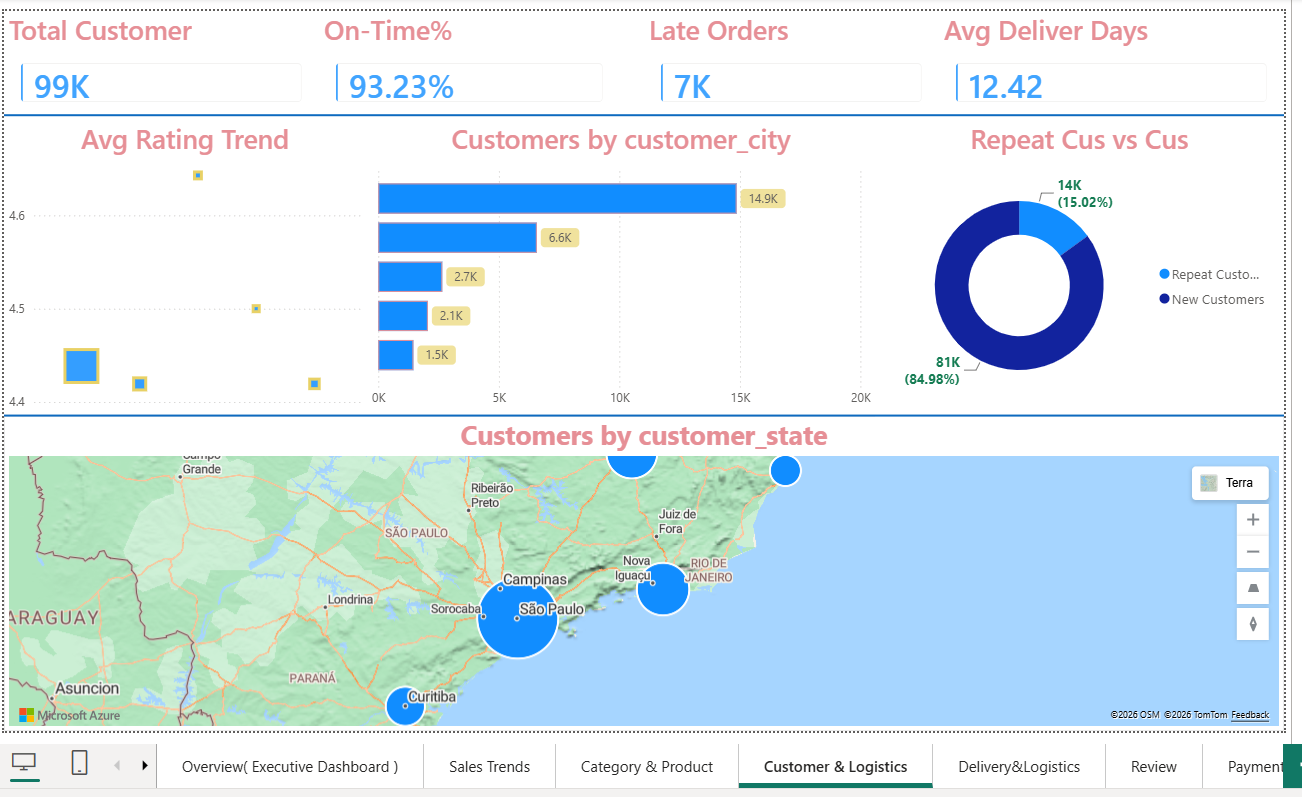

This screenshot's page, from the dashboard's own definition file:
{"tool":"powerbi","page":{"name":"Customer & Logistics ","canvas":[1280,720],"ordinal":3},"visuals":[{"type":"cardVisual","title":"Total Customer","fields":{"Data":["public bi_fact_sales.Total_Customer"]},"box":[0,0,315.6,108.4],"z":0},{"type":"cardVisual","title":"On-Time%","fields":{"Data":["public bi_fact_sales.On-time %"]},"box":[315.6,0,301.9,108.4],"z":1000},{"type":"cardVisual","title":"Late Orders","fields":{"Data":["public bi_fact_sales.Late Orders"]},"box":[639.5,0,295,108.4],"z":2000},{"type":"cardVisual","title":"Avg Deliver Days","fields":{"Data":["public bi_fact_sales.Avg_deliver_days"]},"box":[934.5,0,345.8,108.4],"z":3000},{"type":"azureMap","fields":{"Category":["public bi_fact_sales.customer_state"],"Size":["public bi_fact_sales.Customers"]},"box":[0,405,1280,315],"z":4000},{"type":"clusteredBarChart","fields":{"Category":["public bi_fact_sales.customer_city"],"Y":["public bi_fact_sales.Customers"]},"box":[362.3,108.4,509.1,296.4],"z":5000},{"type":"donutChart","title":"Repeat Cus vs Cus","fields":{"Y":["public bi_fact_sales.Repeat Customers","public bi_fact_sales.New Customers"]},"box":[871.7,108.3,408.3,296.7],"z":6000},{"type":"scatterChart","title":"Avg Rating Trend","fields":{"X":["public bi_fact_sales.category"],"Y":["public bi_fact_sales.Avg Rating"],"Size":["public bi_fact_sales.Orders"]},"box":[0,108.4,362.3,296.4],"z":7000},{"type":"shape","box":[0,255.2,1280.3,299.1],"z":8000},{"type":"shape","box":[0,85.1,1280.3,38.4],"z":9000}]}

Visuals, with their boxes on the page's 1280x720 design canvas (x1, y1, x2, y2). These are canvas units, not pixel positions in the 1302x797 screenshot, which may show the page scaled, cropped or inside an application window:
"Total Customer" cardVisual: {"left": 0, "top": 0, "right": 316, "bottom": 108}
"On-Time%" cardVisual: {"left": 316, "top": 0, "right": 618, "bottom": 108}
"Late Orders" cardVisual: {"left": 640, "top": 0, "right": 934, "bottom": 108}
"Avg Deliver Days" cardVisual: {"left": 934, "top": 0, "right": 1280, "bottom": 108}
azureMap - public bi_fact_sales.customer_state x public bi_fact_sales.Customers: {"left": 0, "top": 405, "right": 1280, "bottom": 720}
clusteredBarChart - public bi_fact_sales.customer_city x public bi_fact_sales.Customers: {"left": 362, "top": 108, "right": 871, "bottom": 405}
"Repeat Cus vs Cus" donutChart: {"left": 872, "top": 108, "right": 1280, "bottom": 405}
"Avg Rating Trend" scatterChart: {"left": 0, "top": 108, "right": 362, "bottom": 405}
shape: {"left": 0, "top": 255, "right": 1280, "bottom": 554}
shape: {"left": 0, "top": 85, "right": 1280, "bottom": 124}
